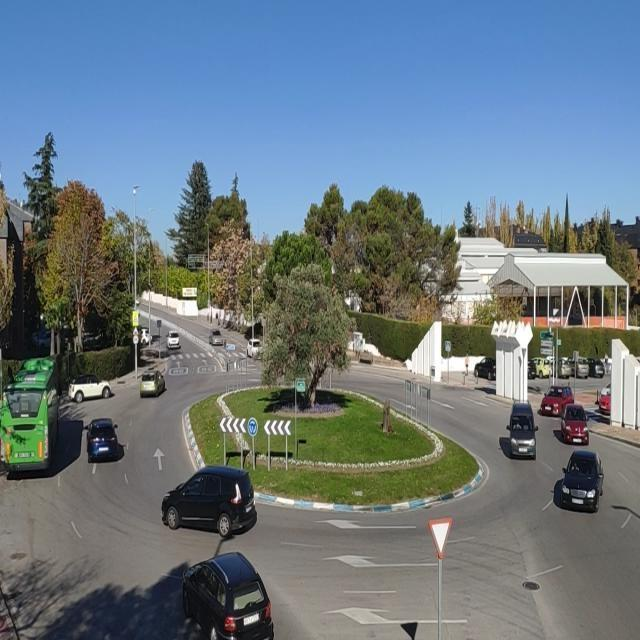Bus: (1, 354, 71, 478)
Car: (180, 552, 275, 639), (151, 462, 268, 532), (558, 450, 604, 511), (506, 403, 539, 458), (84, 418, 122, 462), (68, 374, 112, 403), (559, 404, 590, 444), (540, 386, 574, 416), (140, 369, 166, 398), (473, 358, 498, 380), (566, 356, 590, 378), (583, 358, 605, 378), (209, 329, 224, 346)
